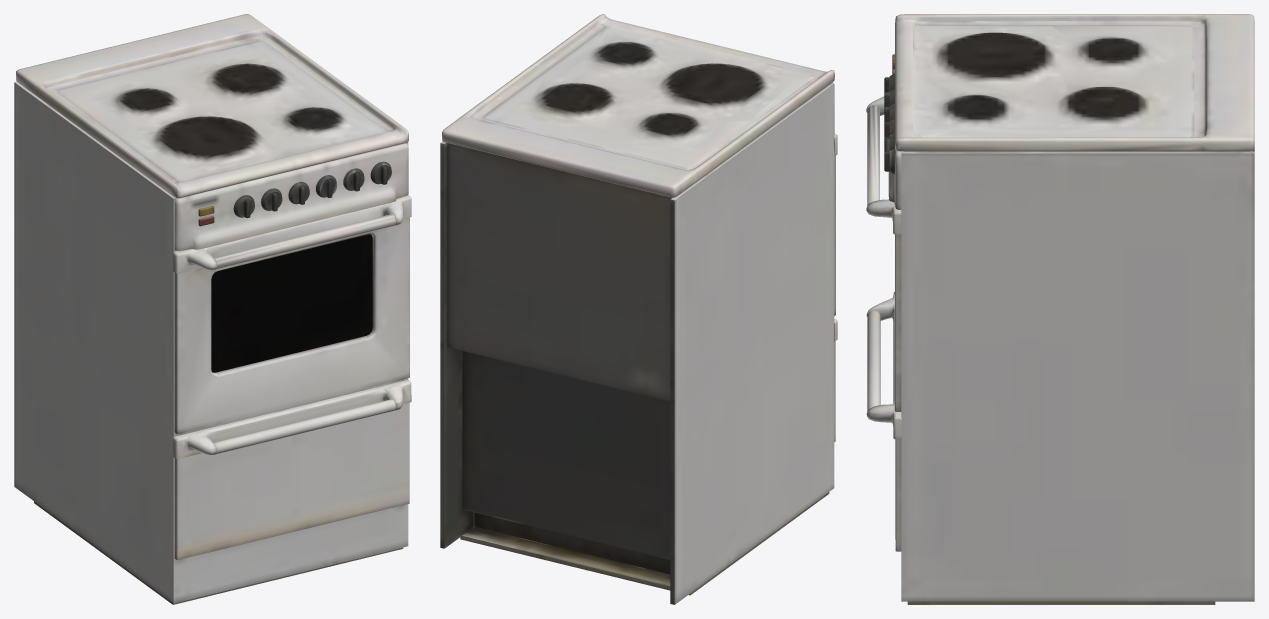
Rendered from stove.glb.
The picture shows the model from 3 angles, left to right: view 1: azimuth 30°, elevation 25°; view 2: azimuth 150°, elevation 25°; view 3: azimuth 270°, elevation 25°; orthographic projection. The views are drawn at different scales.
Visible parts, largest first — view 1: stovetop, door_top, handle_bottom_attachment; view 2: stovetop; view 3: stovetop, handle_bottom_attachment, door_top.
Part boxes in pixels (x1,y1,x2,y2): stovetop: (14,14,408,604); door_top: (173,195,411,433); handle_bottom_attachment: (173,380,411,559); stovetop: (440,14,834,604); stovetop: (888,14,1254,604); handle_bottom_attachment: (866,291,901,551); door_top: (866,96,901,411).
Size of the model in its own units: 0.5026 by 0.8587 by 0.6476.
Materials: 2 (2 with a texture image).
